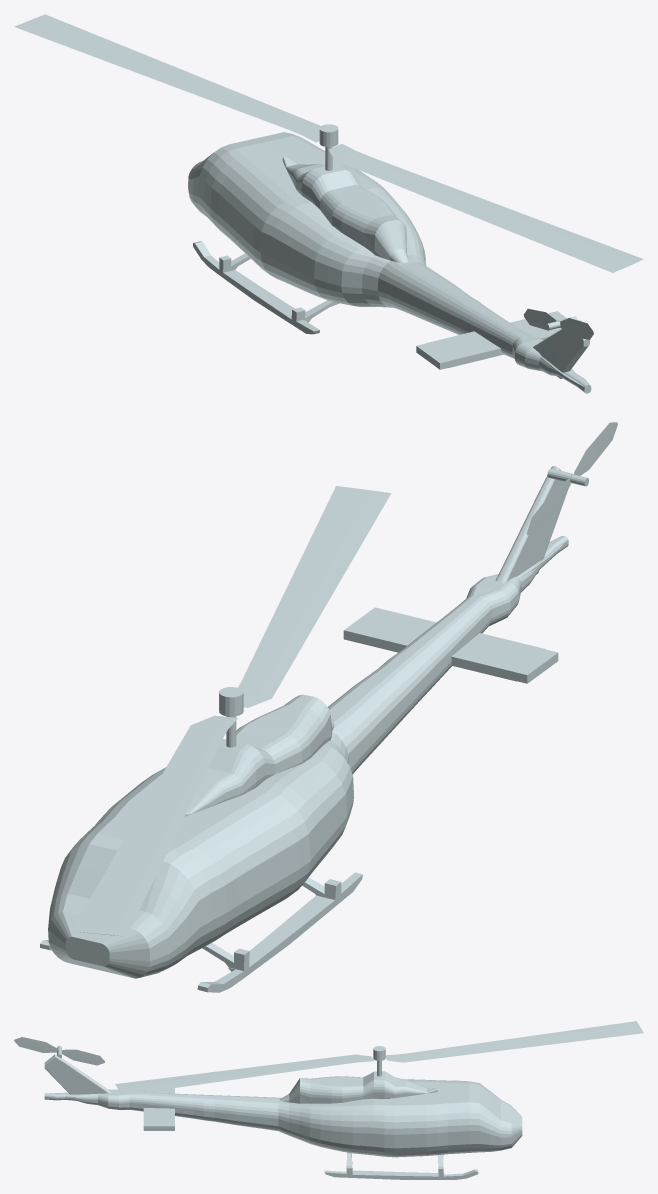
3 renders of one model, top to bottom at view 1: azimuth 30°, elevation 25°; view 2: azimuth 150°, elevation 25°; view 3: azimuth 270°, elevation 25°, orthographic. The views are drawn at different scales.
Parts seen in each view (by area): view 1: Aircraft visual hull, Rotor 1791677087756-c7p2q0493cp, Rotor 1791677420590-2d89ypigbv3; view 2: Aircraft visual hull, Rotor 1791677087756-c7p2q0493cp, Rotor 1791677420590-2d89ypigbv3; view 3: Aircraft visual hull, Rotor 1791677087756-c7p2q0493cp, Rotor 1791677420590-2d89ypigbv3.
Boxes of the visible parts, left/top/right/bottom form: Aircraft visual hull: left=188, top=132, right=591, bottom=393; Rotor 1791677087756-c7p2q0493cp: left=14, top=14, right=643, bottom=272; Rotor 1791677420590-2d89ypigbv3: left=523, top=308, right=593, bottom=339; Aircraft visual hull: left=40, top=466, right=568, bottom=992; Rotor 1791677087756-c7p2q0493cp: left=71, top=486, right=391, bottom=936; Rotor 1791677420590-2d89ypigbv3: left=526, top=422, right=617, bottom=534; Aircraft visual hull: left=44, top=1054, right=522, bottom=1179; Rotor 1791677087756-c7p2q0493cp: left=115, top=1021, right=643, bottom=1095; Rotor 1791677420590-2d89ypigbv3: left=14, top=1037, right=104, bottom=1065.
Size of the model in its own units: 6.23 by 4.55 by 22.32.
